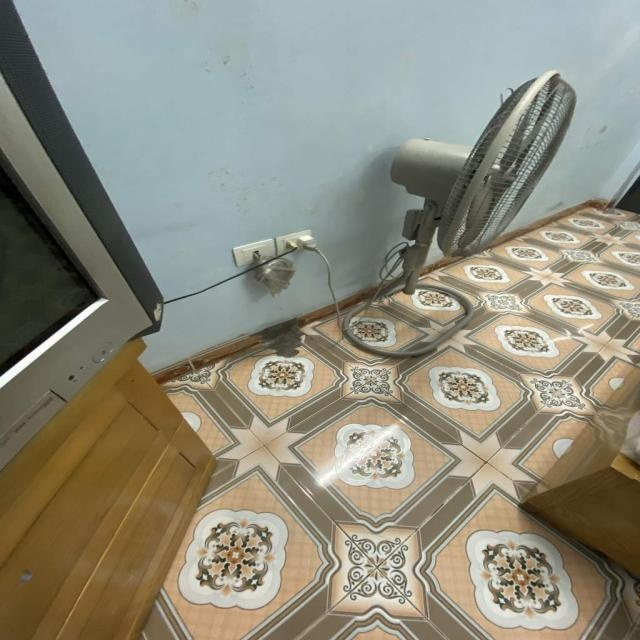outlet: (231, 238, 276, 267), (276, 229, 315, 257)
